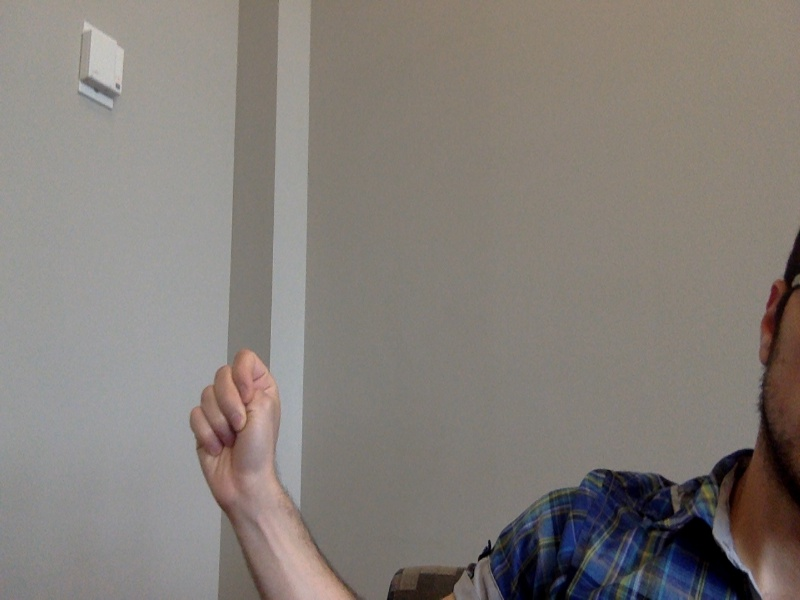0-hand: (189, 347, 285, 512)
